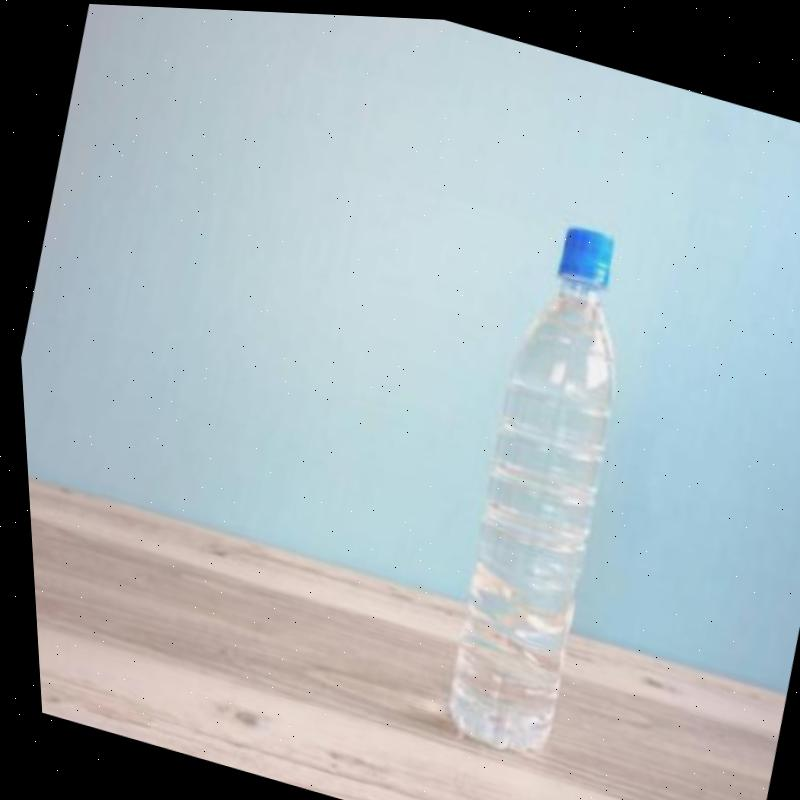botella: (407, 207, 667, 765)
